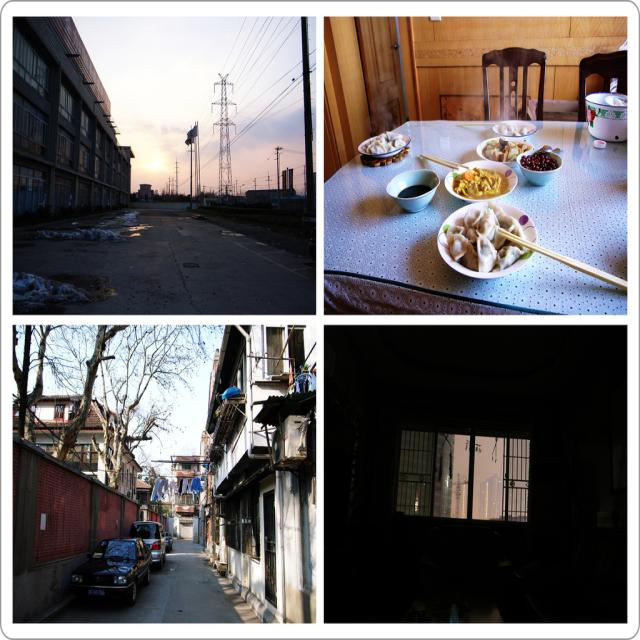car: (68, 534, 151, 601)
